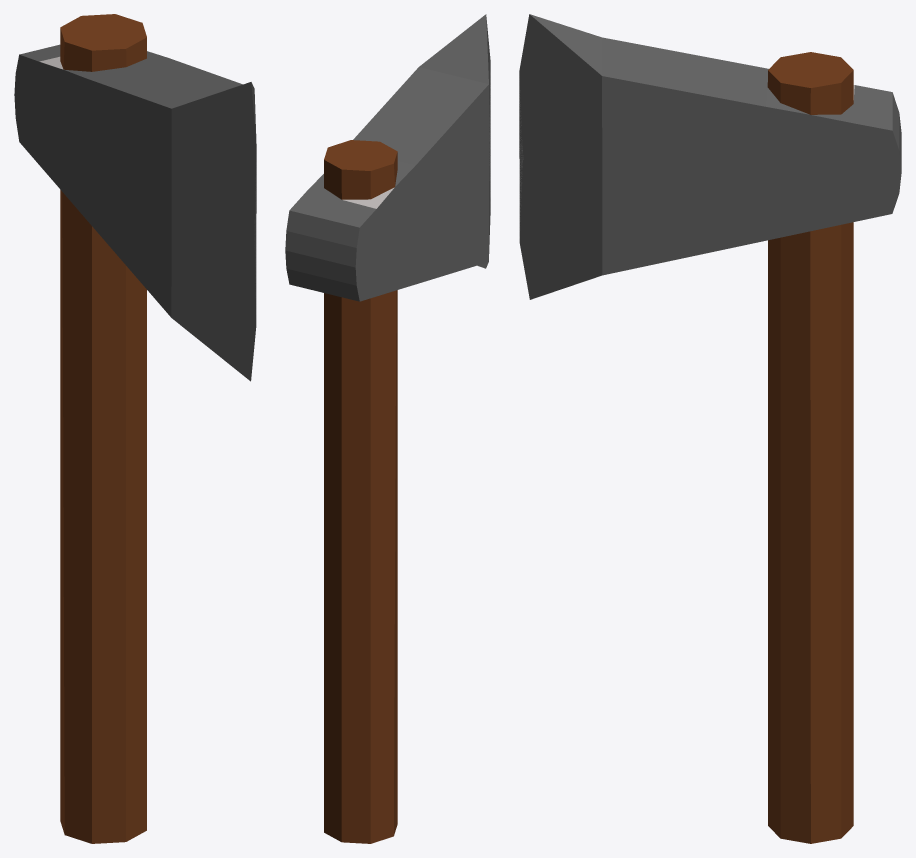
File: Axe.glb
3 views of the same model, side by side, from view 1: azimuth 30°, elevation 25°; view 2: azimuth 150°, elevation 25°; view 3: azimuth 270°, elevation 25° (orthographic). The views are drawn at different scales.
Visible parts, largest first — view 1: Cylinder; view 2: Cylinder; view 3: Cylinder.
Boxes of the visible parts, x1,y1,x2,y2 form: Cylinder: [14, 14, 256, 843]; Cylinder: [285, 14, 490, 843]; Cylinder: [519, 14, 901, 843].
Bounding box in the file's own units: 0.1957 × 1.92 × 0.8177.
Materials: 1 (1 with a texture image).
